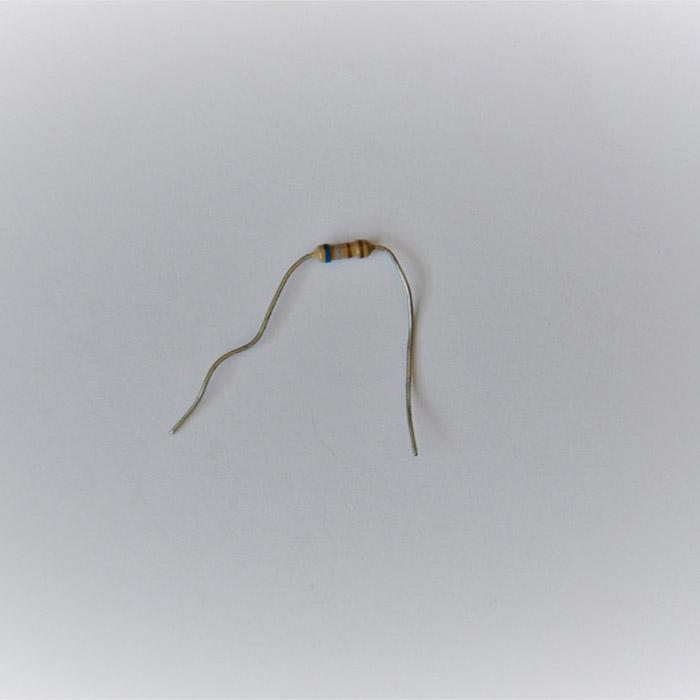resistor: (313, 239, 372, 262)
